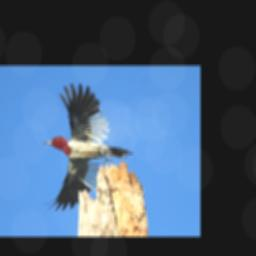Woodpecker: (43, 83, 134, 212)
